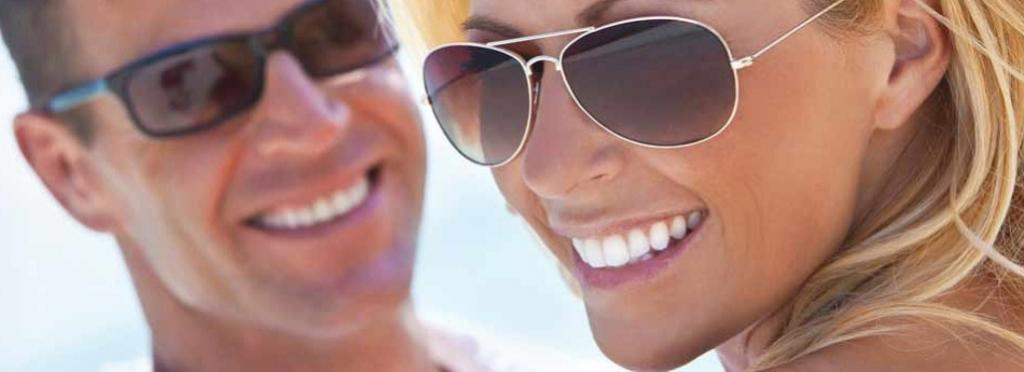face: (460, 4, 878, 368), (68, 10, 430, 336)
